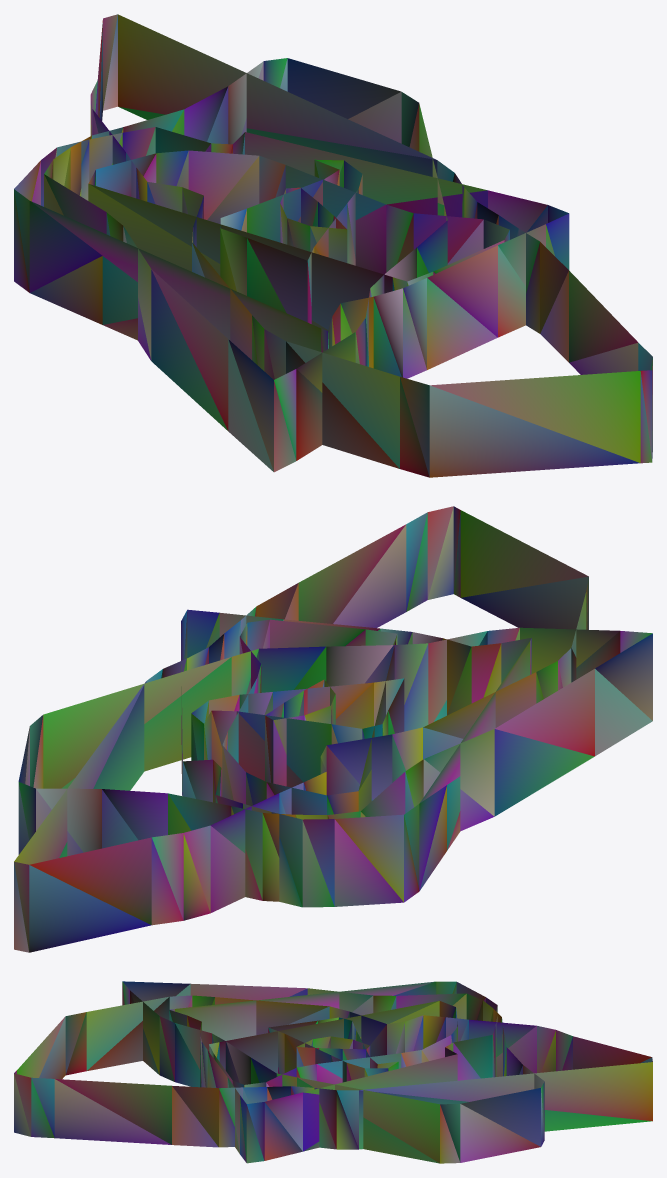
Rendered from TRSLips.fbx.
3 views of the same model, one above another, from view 1: azimuth 30°, elevation 25°; view 2: azimuth 150°, elevation 25°; view 3: azimuth 270°, elevation 25° (orthographic). The views are drawn at different scales.
Visible parts, largest first — view 1: TRSLips; view 2: TRSLips; view 3: TRSLips.
Boxes of the visible parts, <box> form: TRSLips: <box>14,14,652,477</box>; TRSLips: <box>14,506,652,952</box>; TRSLips: <box>14,981,652,1163</box>.
Bounding box in the file's own units: 0.3427 × 0.077 × 0.7526.
